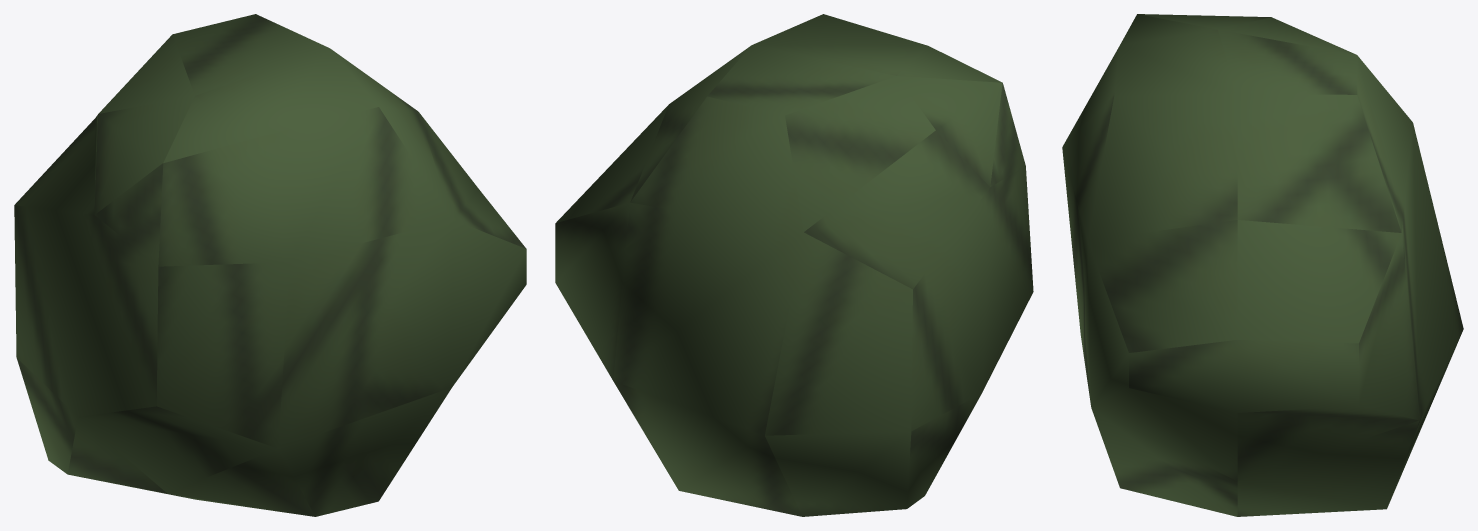
The model's file is Phase 1 Bamboo 3.fbx.
3 renders of one model, left to right at view 1: azimuth 30°, elevation 25°; view 2: azimuth 150°, elevation 25°; view 3: azimuth 270°, elevation 25°, orthographic. The views are drawn at different scales.
Parts seen in each view (by area): view 1: Phase 1 Bamboo 3; view 2: Phase 1 Bamboo 3; view 3: Phase 1 Bamboo 3.
Boxes of the visible parts, x1=… form: Phase 1 Bamboo 3: x1=14, y1=14, x2=526, y2=516; Phase 1 Bamboo 3: x1=555, y1=14, x2=1033, y2=516; Phase 1 Bamboo 3: x1=1062, y1=14, x2=1463, y2=516.
Size of the model in its own units: 27.53 by 28.01 by 24.49.
